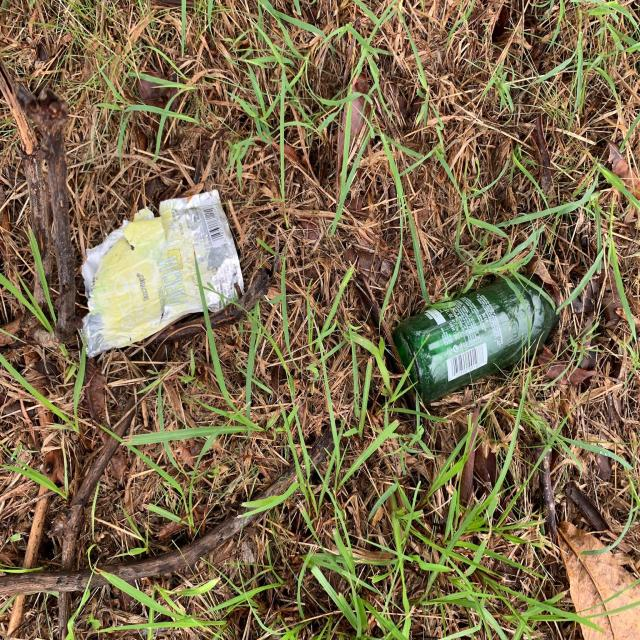litter: (81, 190, 244, 358), (391, 275, 561, 403)
